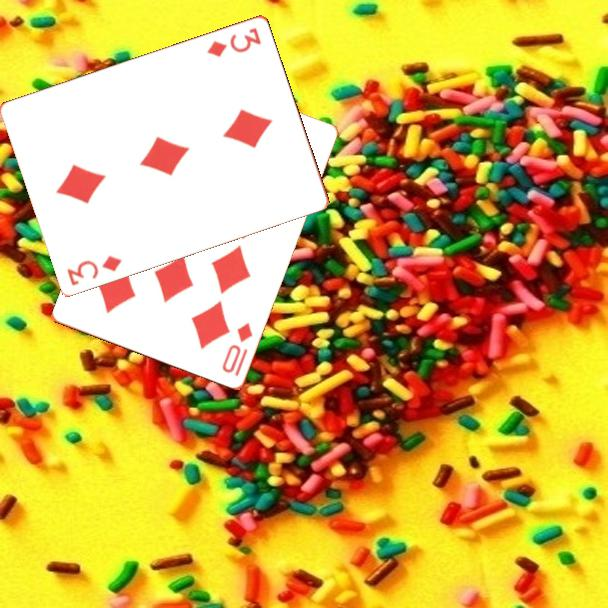d03: (64, 251, 125, 288), (203, 24, 264, 59)
d10: (219, 319, 256, 380)
